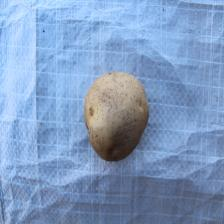Diseased-fungal potato: (82, 68, 151, 163)
